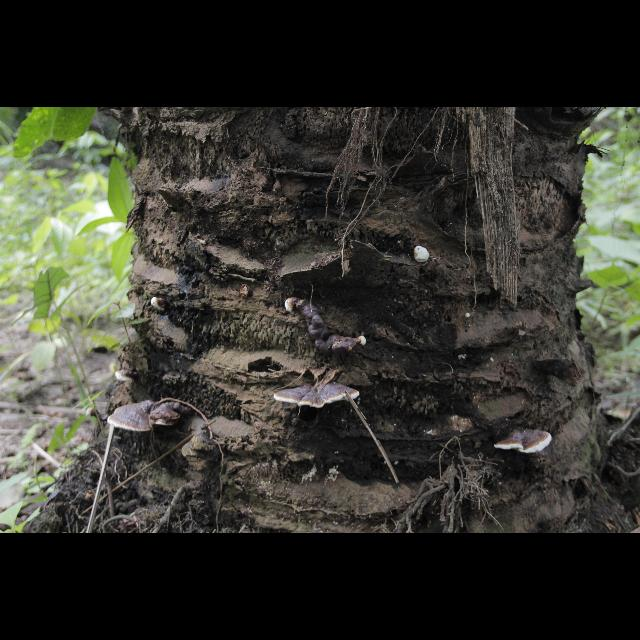ganoderma: (298, 297, 359, 357), (274, 381, 361, 410), (108, 401, 159, 433), (495, 429, 554, 456), (150, 403, 190, 428), (116, 371, 141, 384)
primordium: (413, 246, 431, 264), (151, 299, 169, 313), (285, 298, 297, 314), (86, 408, 99, 421), (359, 337, 368, 348), (467, 314, 472, 320)
